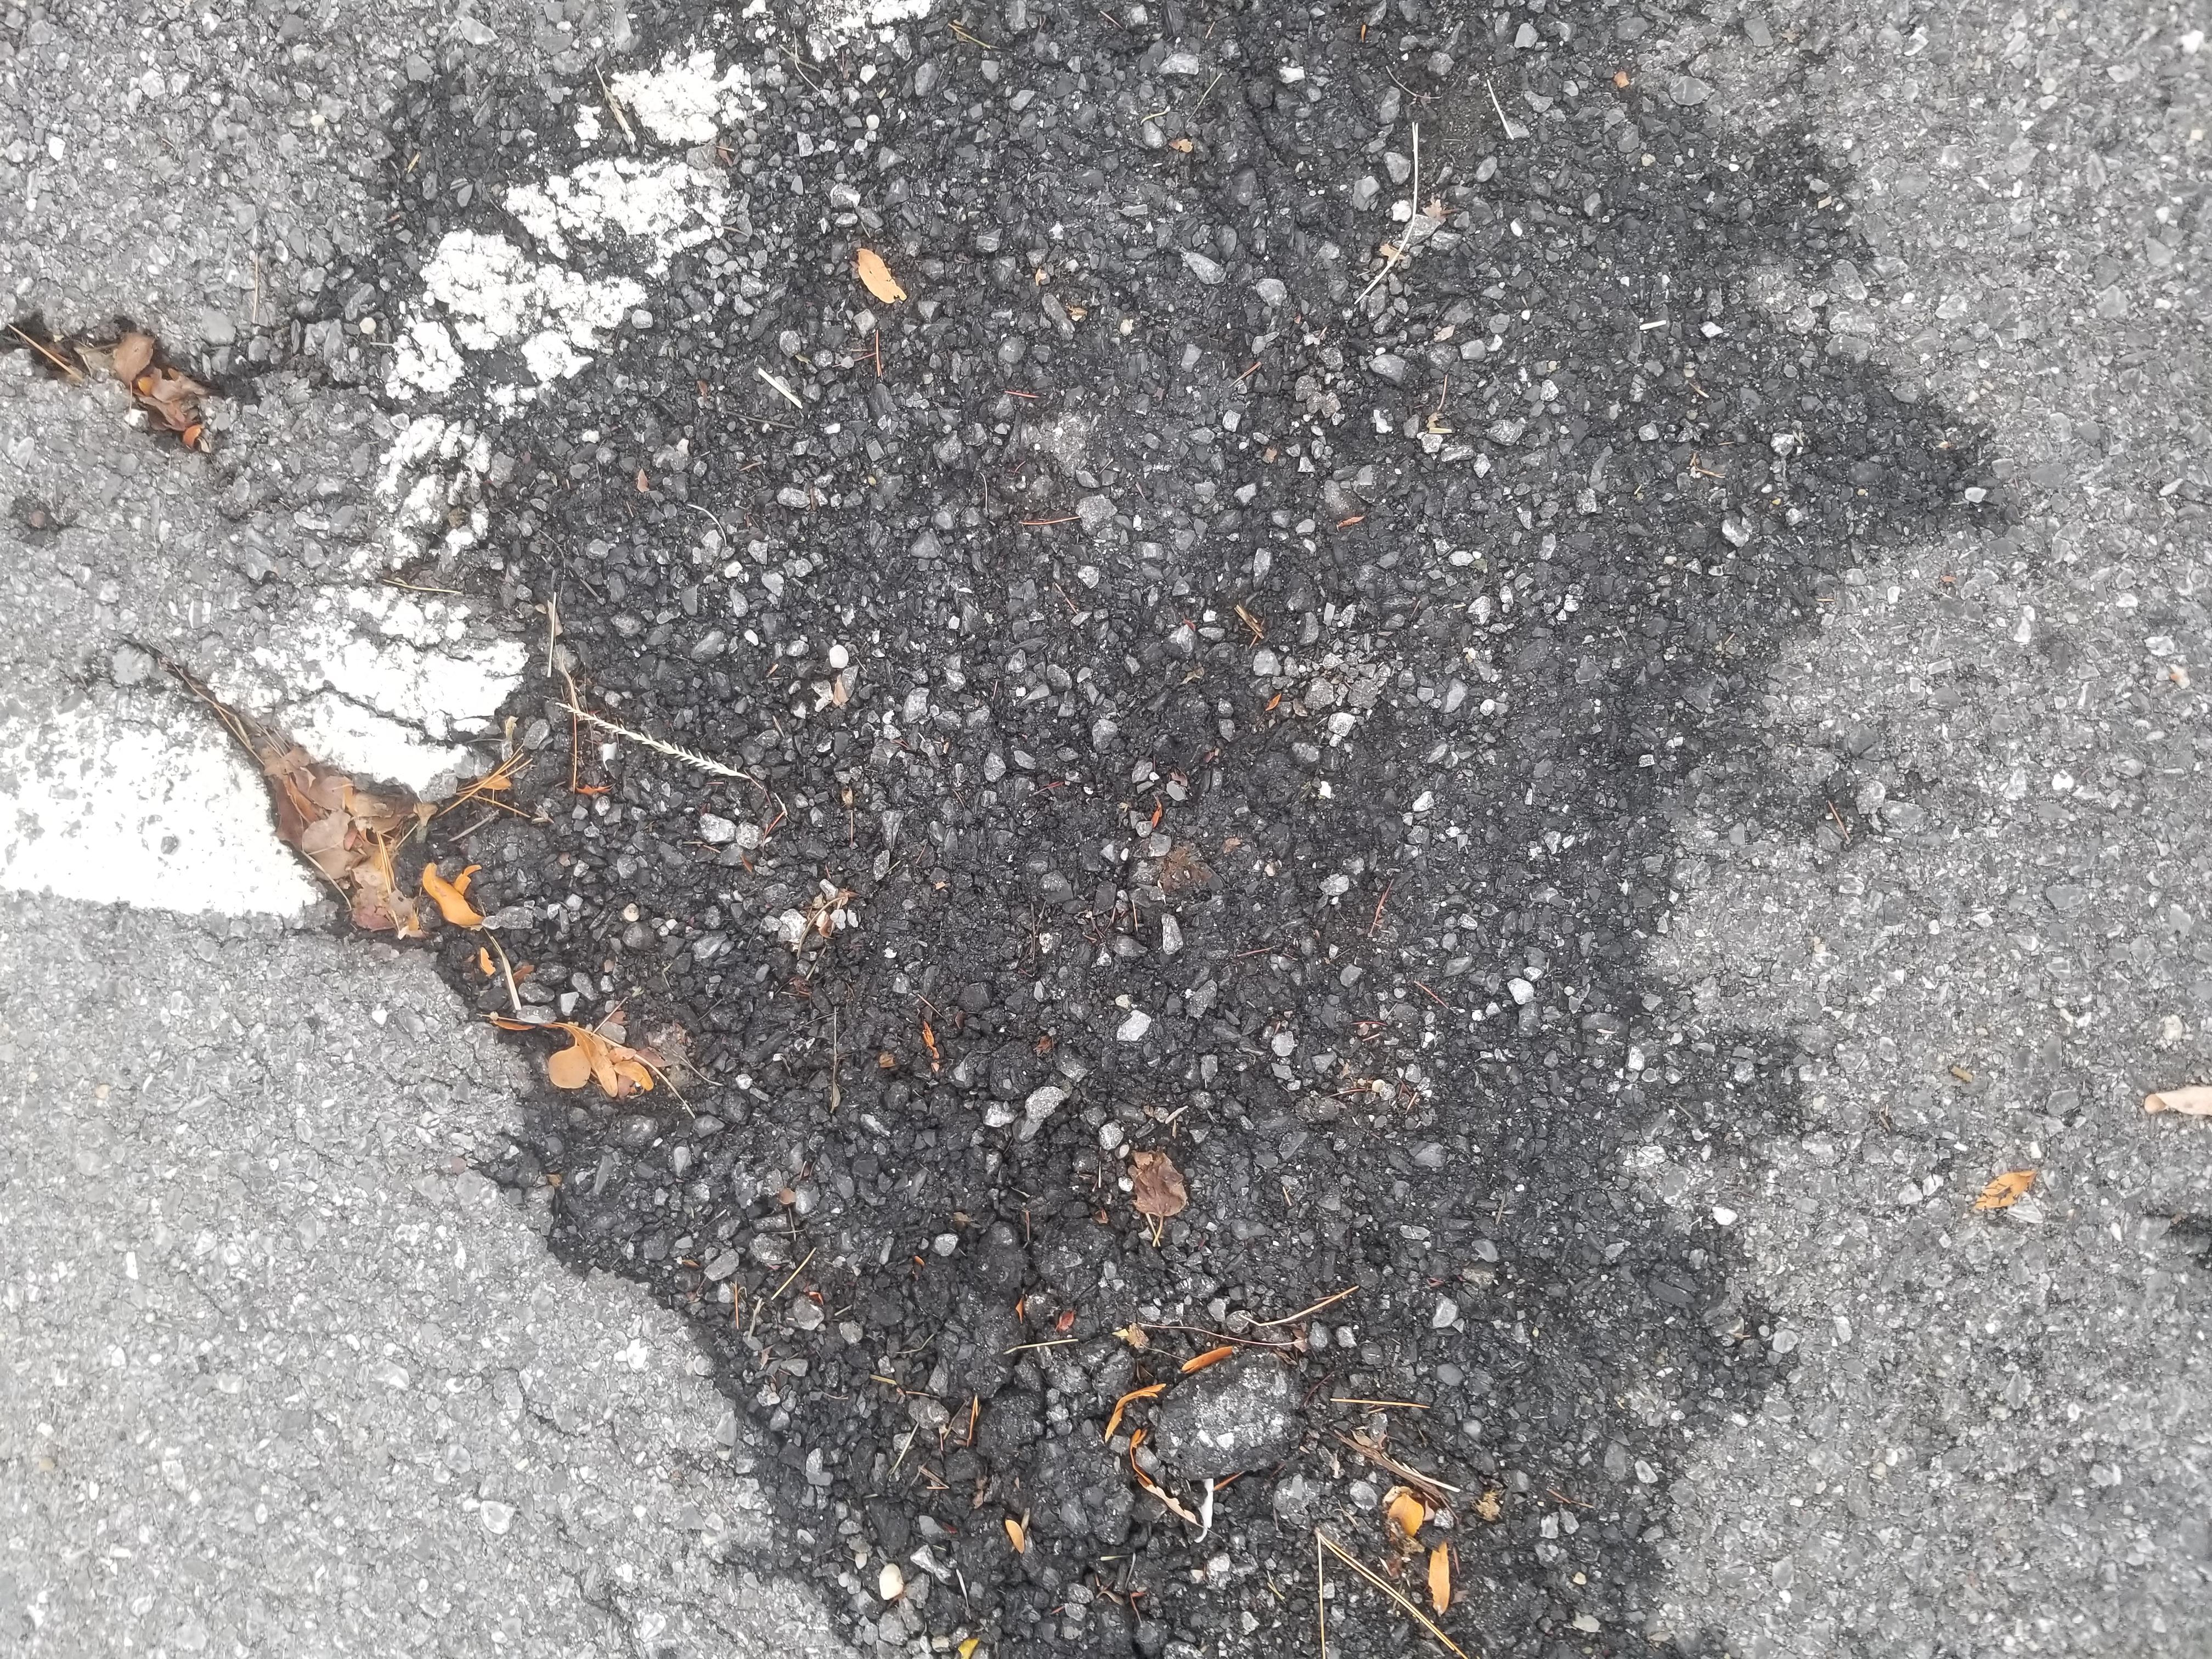pothole: (16, 87, 2212, 1434)
